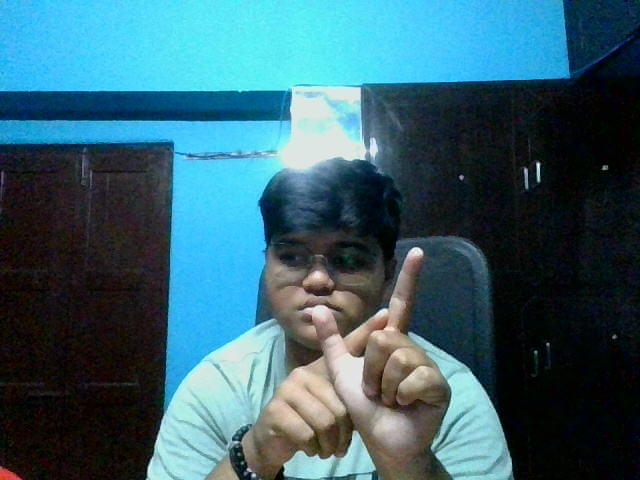J: (256, 247, 453, 468)
